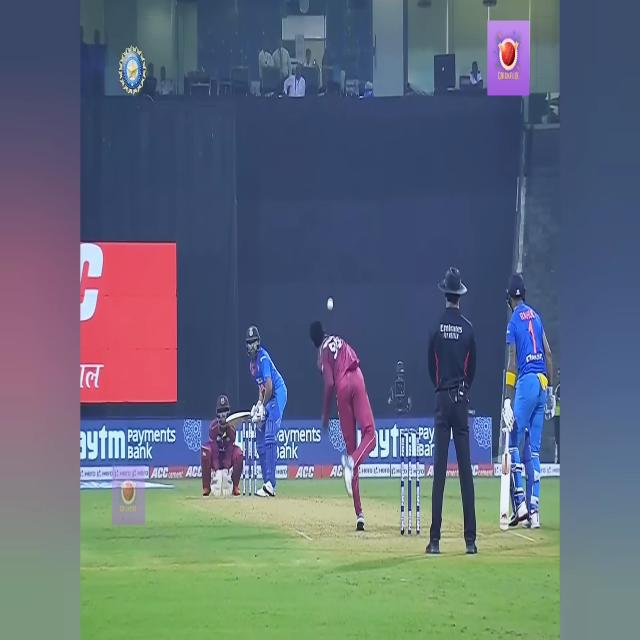partially_visible: (78, 424, 132, 471)
